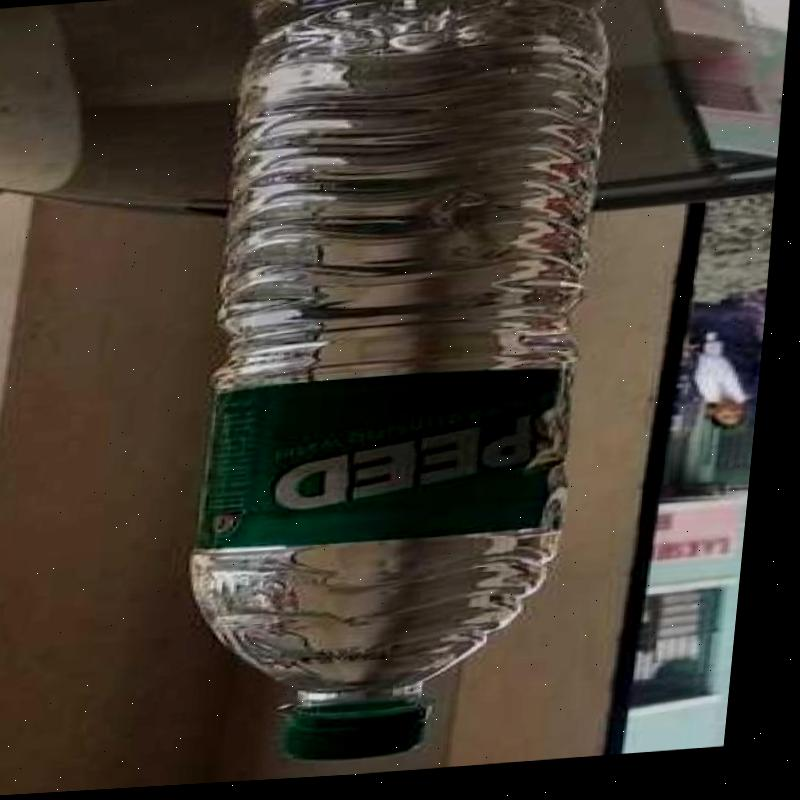botella: (174, 0, 631, 778)
